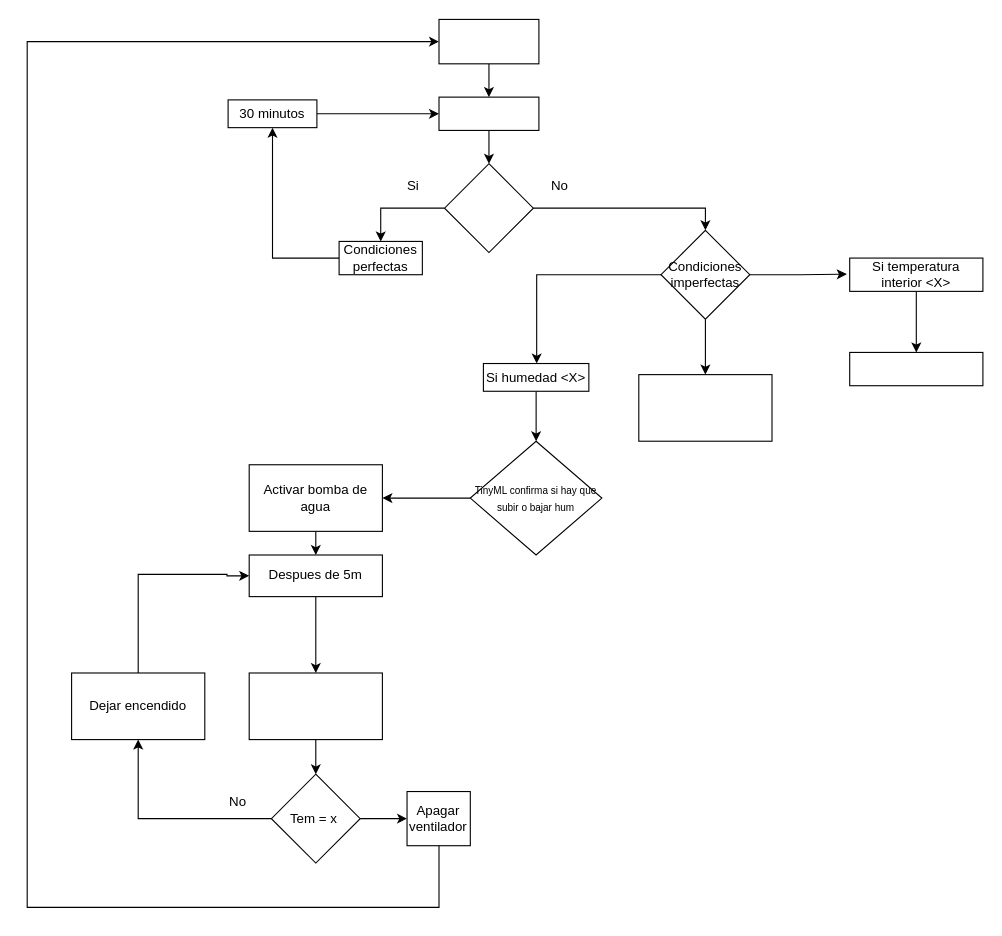
Some shapes in this 1002 by 936 pixel diagram are drawn without their labels. Each missing label, with the box of its shape:
Inicio: (438, 18, 539, 64)
Medir temperatura exterior <X>: (849, 351, 983, 386)
Si ambas estan mal hum y tem <X>: (638, 374, 772, 441)
TinyML: (443, 163, 533, 253)
Toma de sensores: (438, 96, 539, 130)
Tomar Hum: (248, 672, 382, 740)
